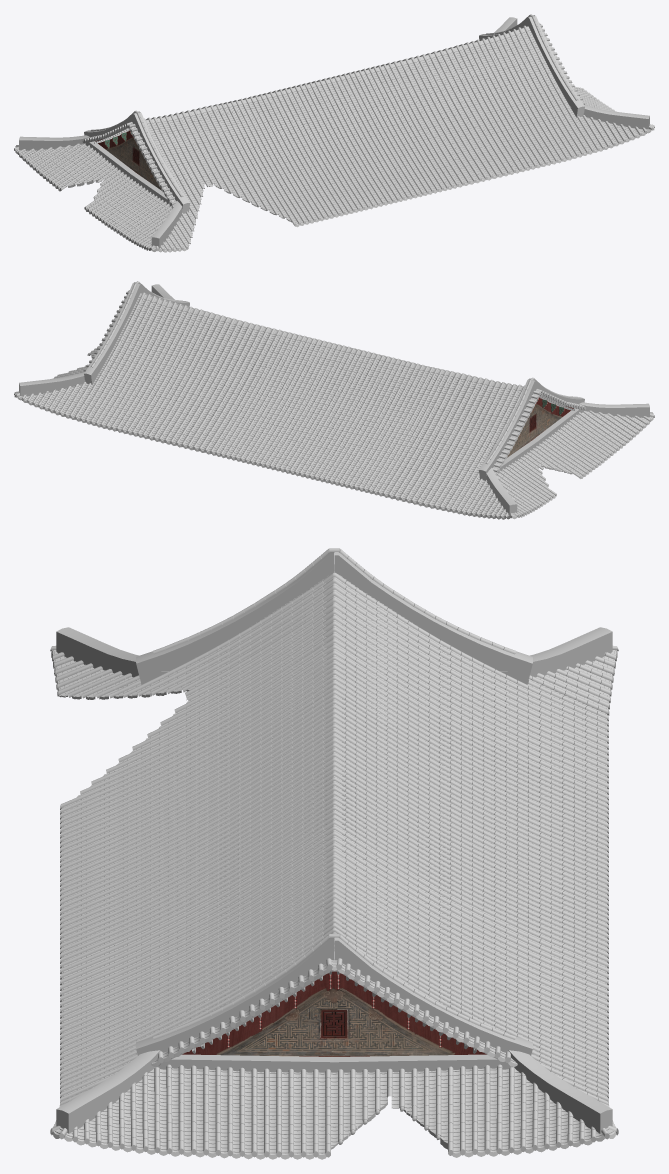
The model's file is SM_Roof05C.fbx.
3 views of the same model, one above another, from view 1: azimuth 30°, elevation 25°; view 2: azimuth 150°, elevation 25°; view 3: azimuth 270°, elevation 25° (orthographic). The views are drawn at different scales.
Visible parts, largest first — view 1: SM_Roof05C; view 2: SM_Roof05C; view 3: SM_Roof05C.
Boxes of the visible parts, x1,y1,x2,y2 form: SM_Roof05C: [14, 14, 654, 252]; SM_Roof05C: [14, 281, 654, 519]; SM_Roof05C: [50, 548, 618, 1159].
Size of the model in its own units: 3276 by 1598 by 548.
